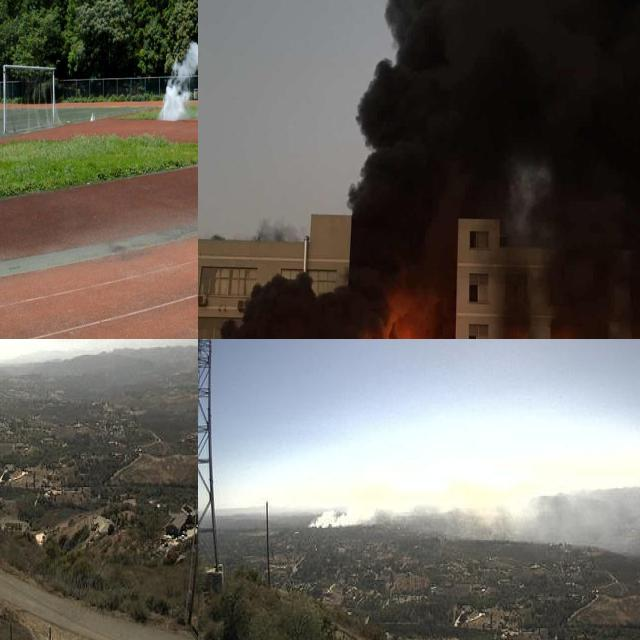smoke: (221, 0, 640, 339), (305, 477, 606, 551), (156, 12, 198, 119)
